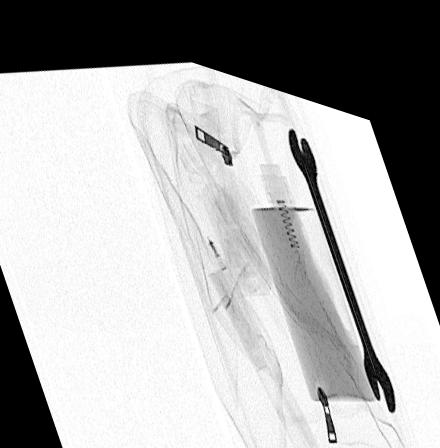Wrench: (287, 108, 394, 389)
